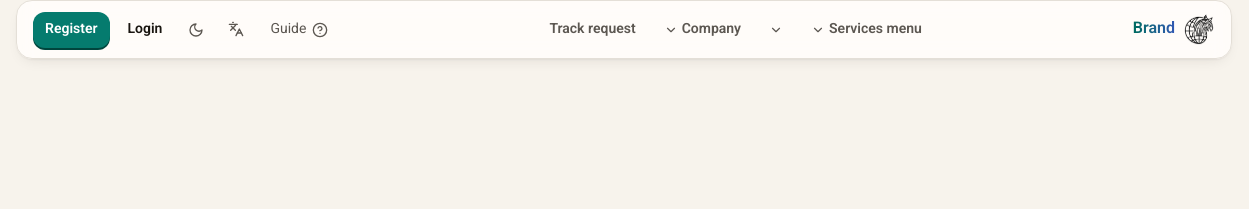
it: FuturisticNavbar › closes when something else is clicked
Click the button "Services menu".
click(866, 30)  # box [799,12,934,48]
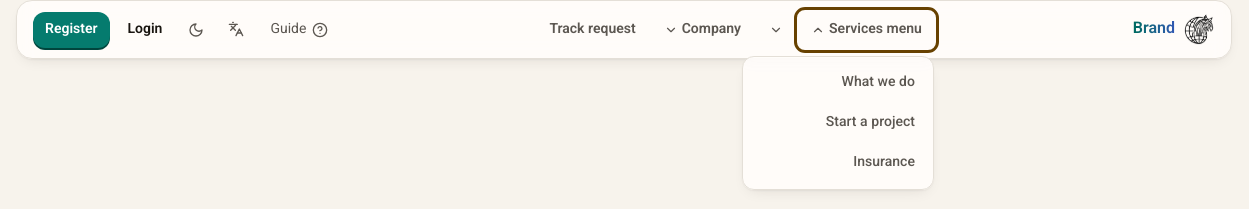
Click the link "Track request".
click(593, 30)  # box [549,18,636,40]
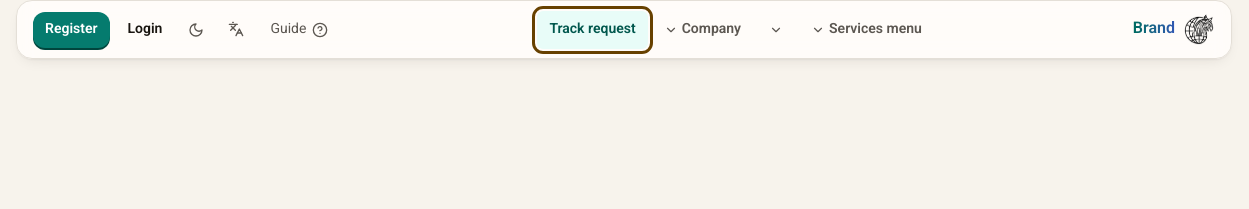
Expected: the link "Start a project" is gone
